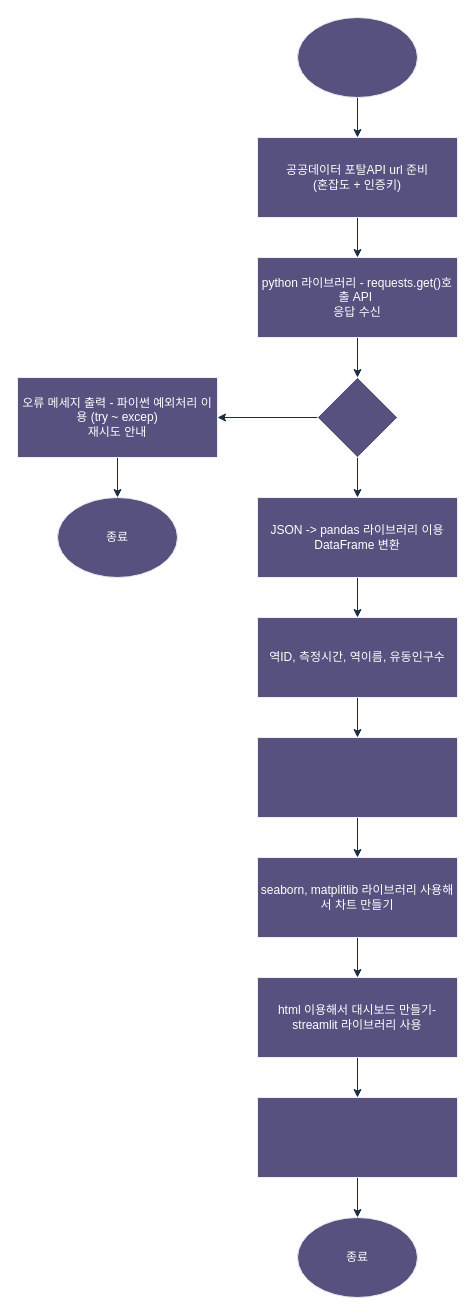
This 475x1315 diagram has some shape labels left out. The box of each missing label's shape, as (x1, y1, x2, y2) in pixels:
분석 결과를 pdf로 내보내기 - 라이브러리 사용: (256, 1096, 458, 1178)
시작: (296, 16, 418, 98)
응답 상태 200 OK?: (316, 376, 398, 458)
전처리 작업 - 결측치 처리, 이상치 삭제: (256, 736, 458, 818)
